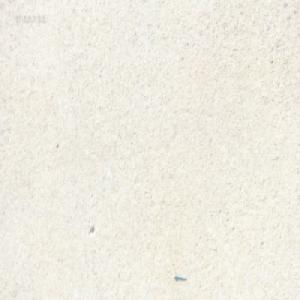Nail: (174, 272, 186, 280)
